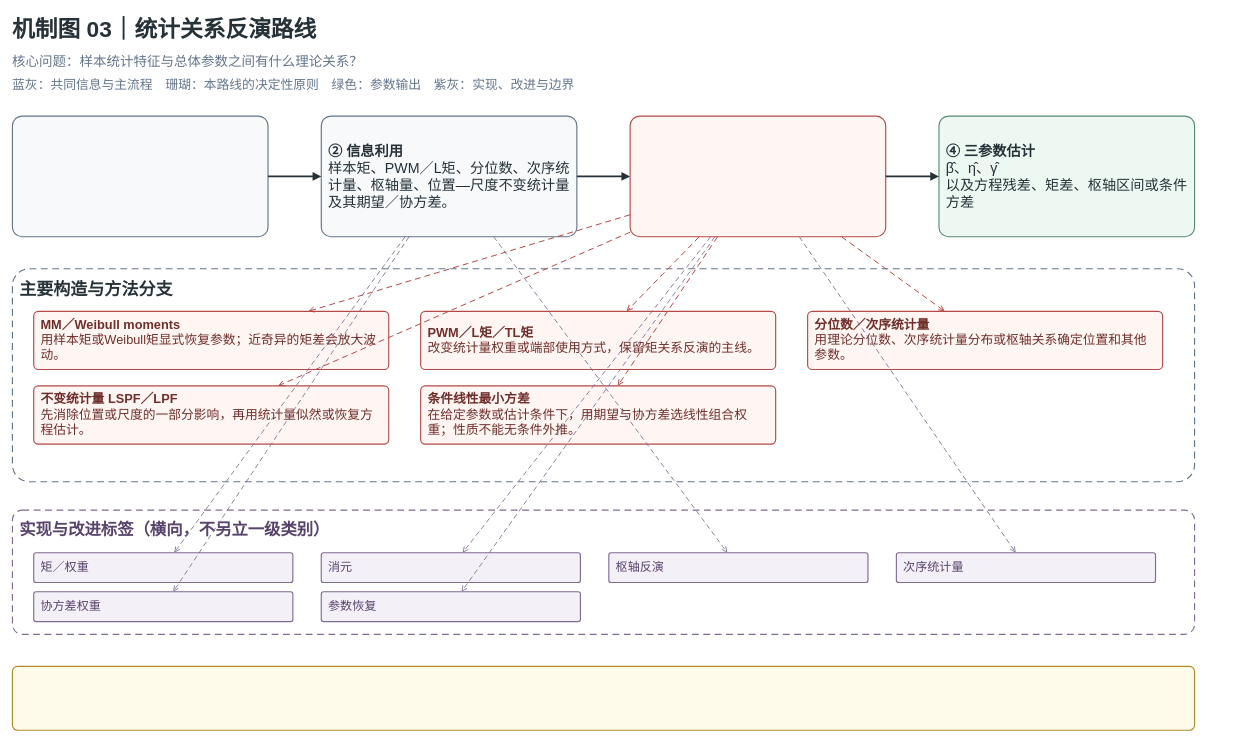
Some shapes in this 1246 by 743 pixel diagram are drawn without their labels. Here are the shapes that lost their labels. From the top down, the centre of each, then its label:
point 140,176: ① 样本 D 排序寿命样本 完整样本或指定观测条件
point 757,176: ③ 参数确定原则 建立理论等式、匹配关系或枢轴反演关系，再求解三个参数；条件线性估计通过协方差选择权重。
point 603,697: 解释边界 统计量相近不等于估计准则相同；已知参数条件、迭代代入和整体三参数性质需要逐篇区分。
